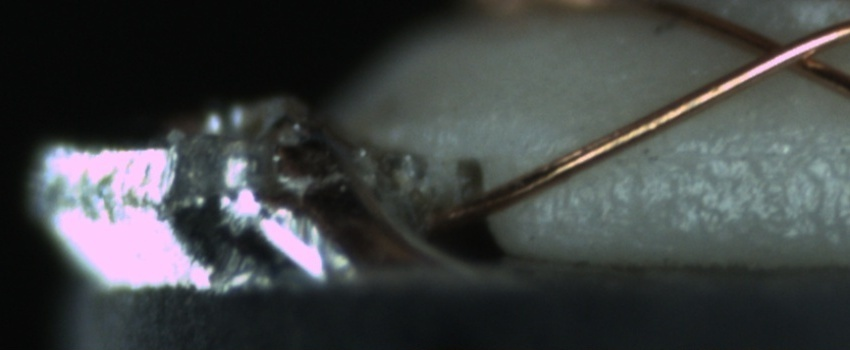CL: (731, 22, 834, 81)
DL: (630, 123, 850, 180)
